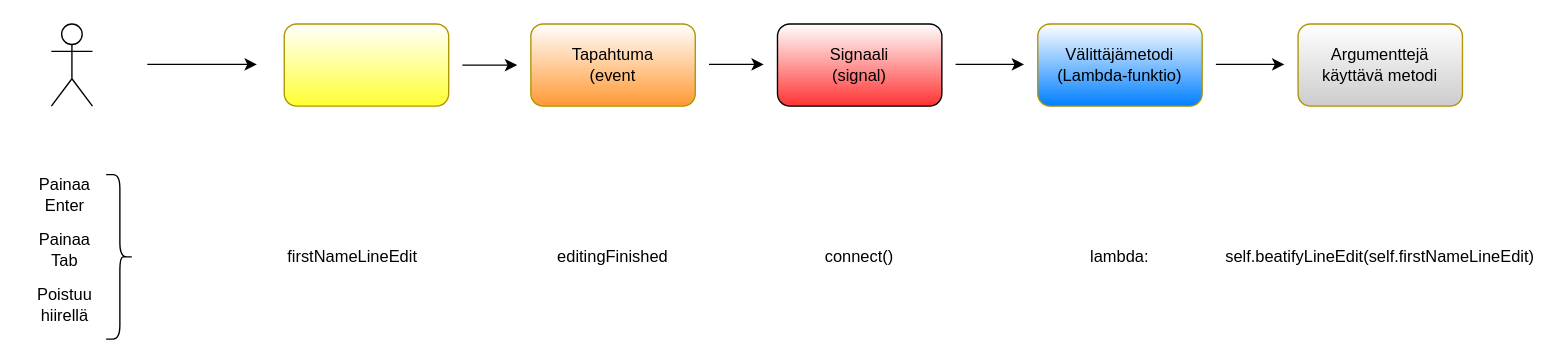
This 1558x363 diagram has some shape labels left out. The centre of each missing label's shape, as x and y in pixels:
"Elementti (element/widget" belongs at [366,64].
"Käyttäjän toiminpide" belongs at [71,64].
